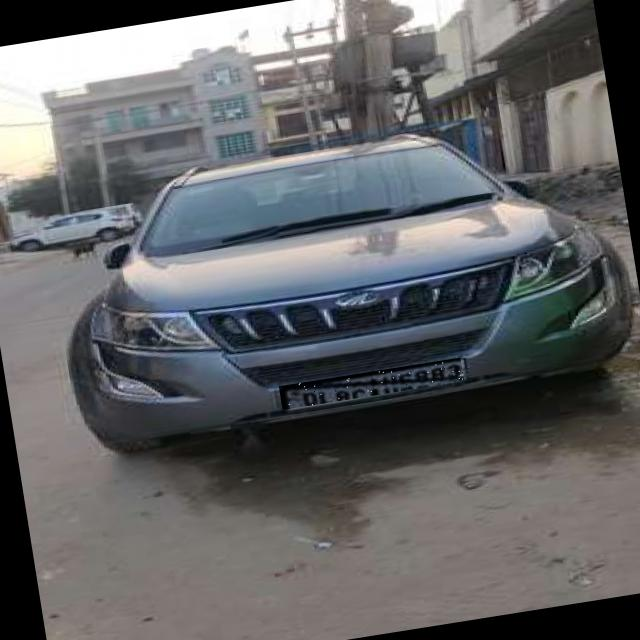Plate: (280, 358, 466, 411)
